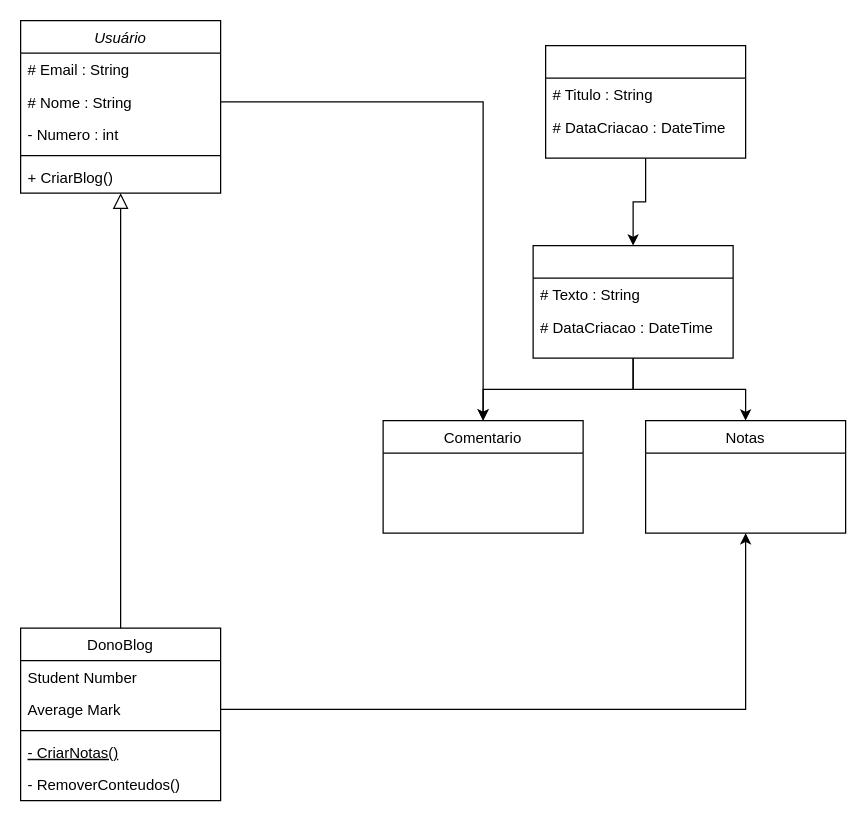
Image size: 866x821. Some labels were removed from this diagram. Here are the shapes that lost their labels. From the top down, the box of each, then its label:
(544, 44, 746, 158): Blog
(532, 244, 733, 358): Conteudo
